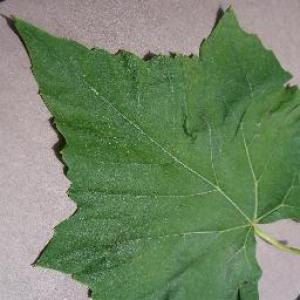Folha: (3, 2, 299, 299)
